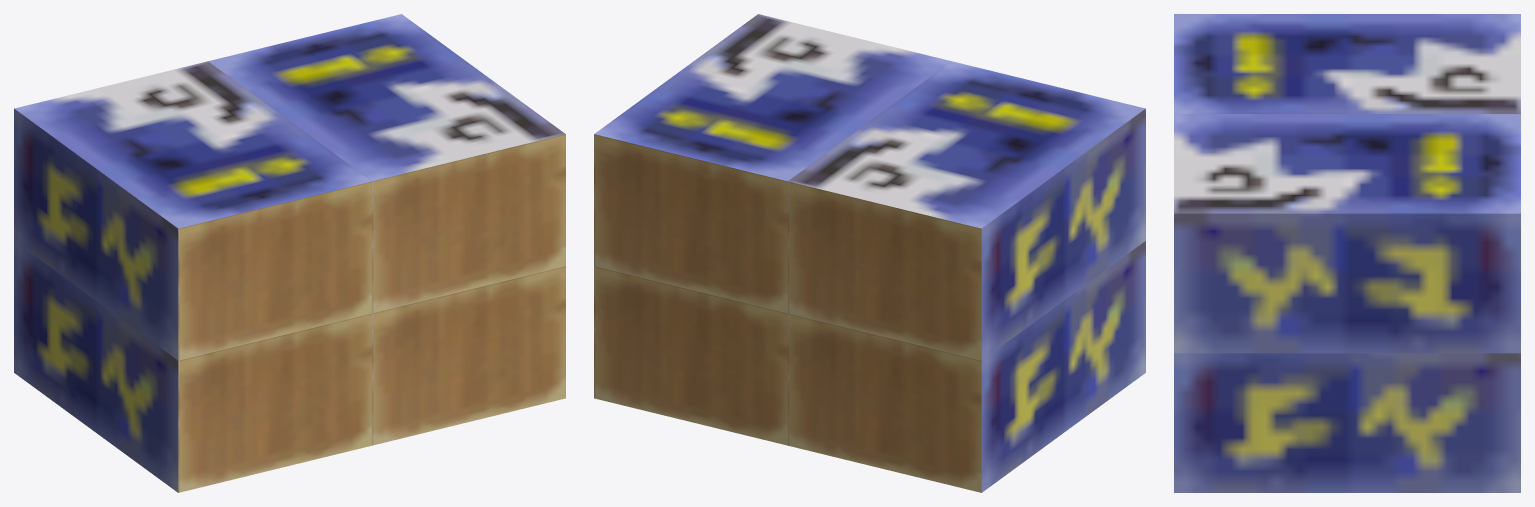
File: gunshopammoboxblueblock.obj
The picture shows the model from 3 angles, left to right: view 1: azimuth 30°, elevation 25°; view 2: azimuth 150°, elevation 25°; view 3: azimuth 270°, elevation 25°; orthographic projection. The views are drawn at different scales.
Parts seen in each view (by area): view 1: gunshopammoboxblueblock; view 2: gunshopammoboxblueblock; view 3: gunshopammoboxblueblock.
Part boxes in pixels (x1,y1,x2,y2): gunshopammoboxblueblock: (14, 14, 565, 492); gunshopammoboxblueblock: (594, 14, 1145, 492); gunshopammoboxblueblock: (1174, 14, 1520, 492).
Bounding box in the file's own units: 0.503 × 0.3277 × 0.3689.
1 material, 1 textured.
